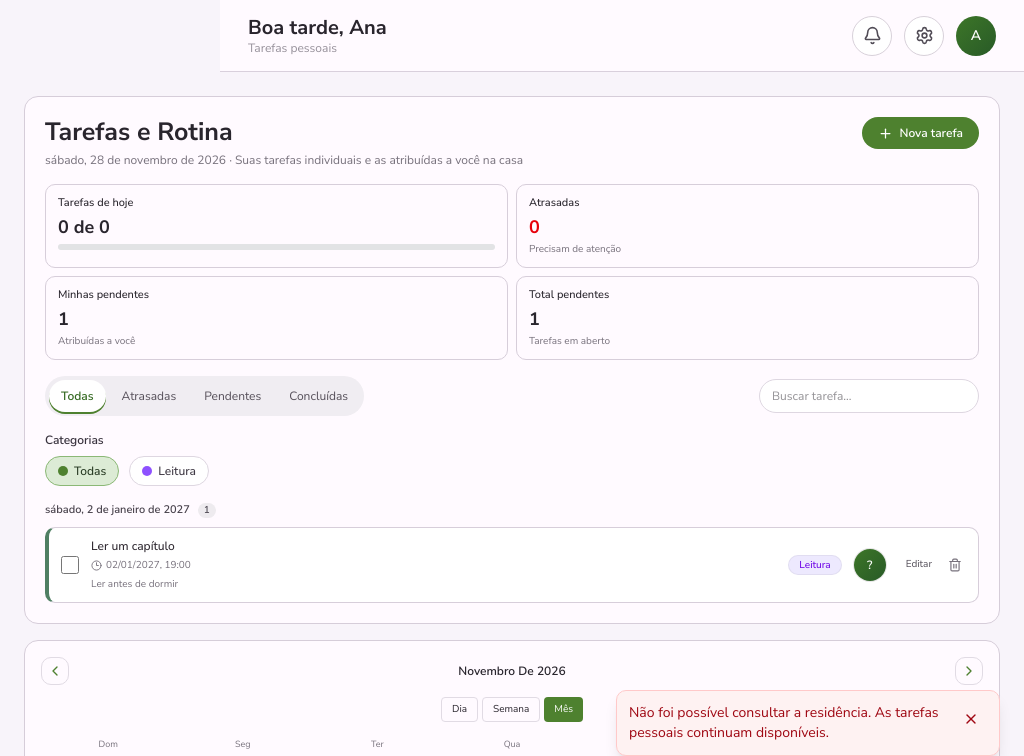
Test: TasksPage › keeps personal tasks available when the residence lookup fails
Expected: the heading "Ler um capítulo" is shown, [91, 538, 175, 554]
Expected: the message shows "As tarefas pessoais continuam disponíveis.", [629, 703, 939, 742]
In the field named "Buscar tarefas": (869, 396) [759, 379, 979, 413], type "fora da lista"
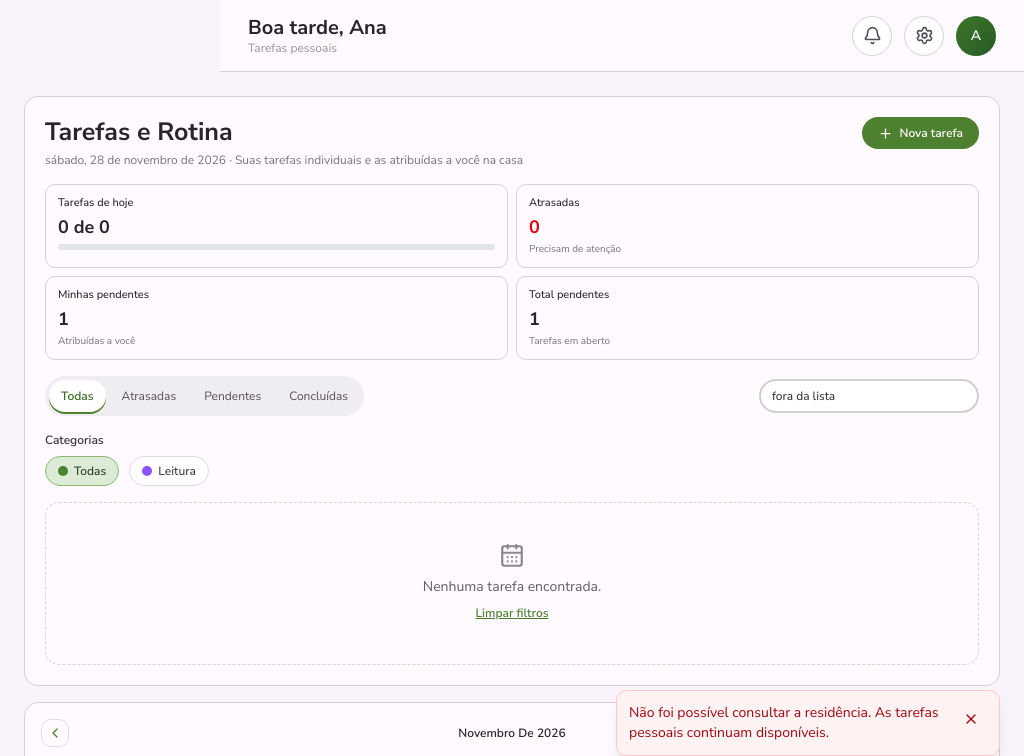
Result: the text "Nenhuma tarefa encontrada." is shown at [423, 577, 601, 596]
Click the button "Limpar filtros": (512, 613) [476, 605, 548, 621]
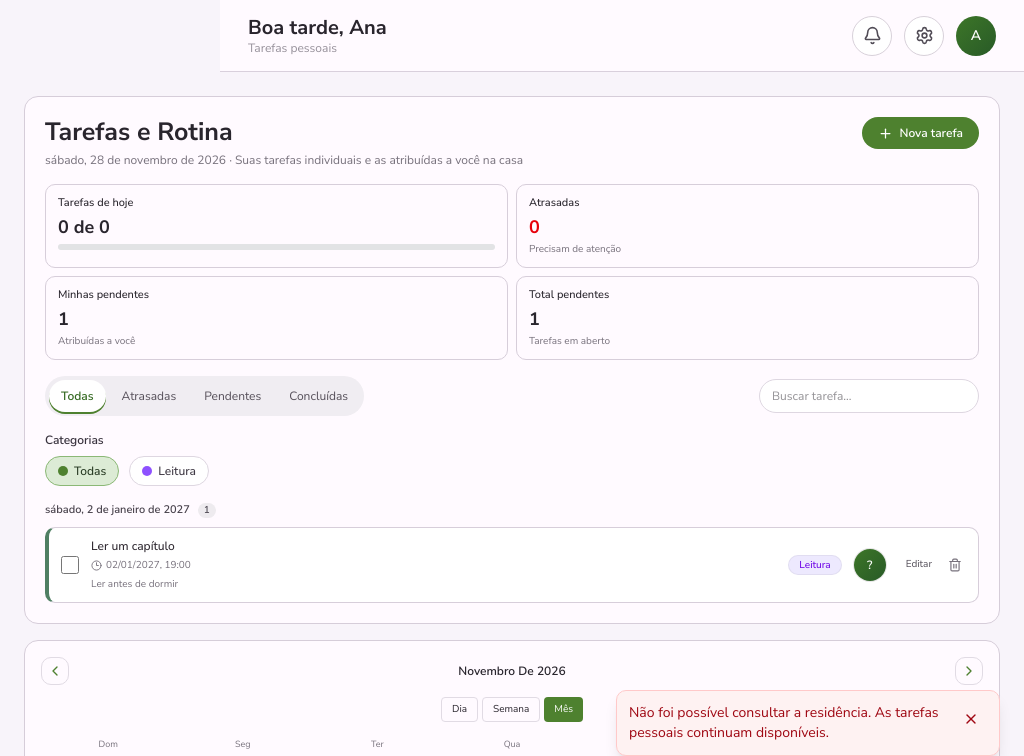
Result: the heading "Ler um capítulo" is shown at [91, 538, 175, 554]
